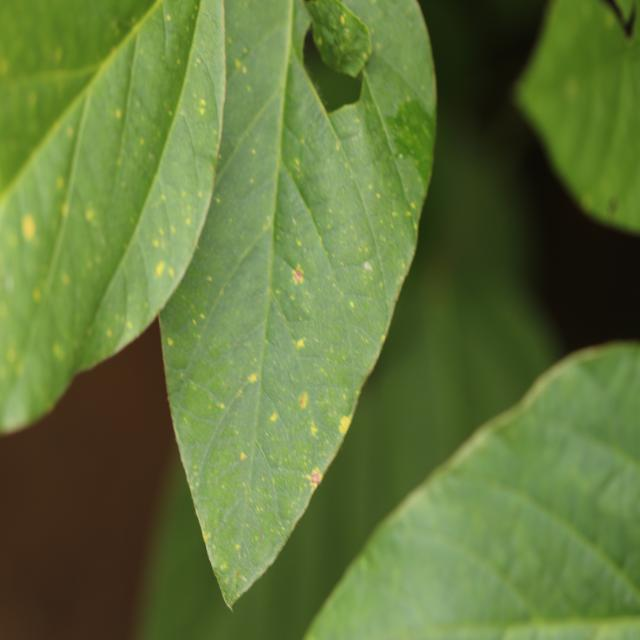Deficiency Leaf: (317, 499, 530, 633), (420, 219, 561, 420), (511, 424, 640, 600), (186, 353, 277, 573), (209, 0, 292, 213), (192, 105, 281, 302), (176, 222, 274, 399), (342, 76, 421, 287), (0, 57, 108, 207), (273, 277, 366, 448), (5, 123, 77, 304), (2, 276, 83, 427), (281, 32, 345, 222), (48, 135, 116, 306), (253, 310, 316, 493), (302, 127, 377, 270), (581, 51, 638, 218), (358, 5, 433, 120), (179, 3, 228, 179), (304, 249, 383, 350), (113, 67, 169, 202), (270, 211, 335, 326), (142, 194, 201, 319), (123, 8, 175, 134), (90, 244, 142, 364), (155, 139, 204, 233), (160, 2, 205, 80), (357, 550, 374, 580)
Soybean: (0, 0, 441, 613)
